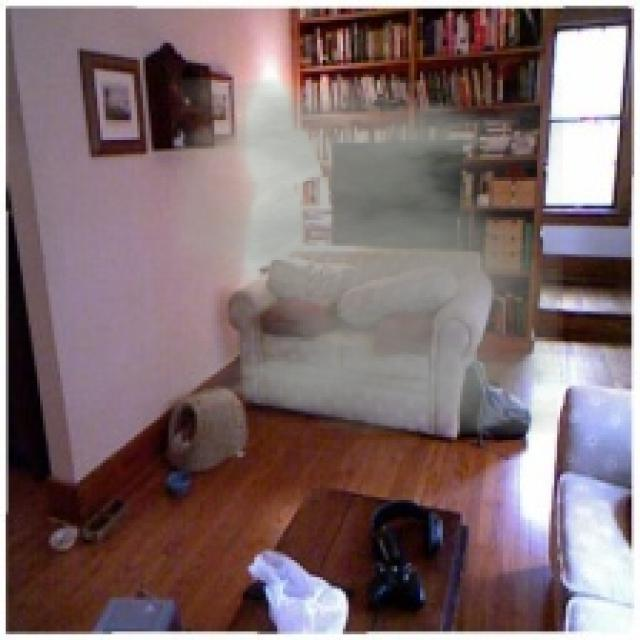smoke: (171, 77, 563, 434)
